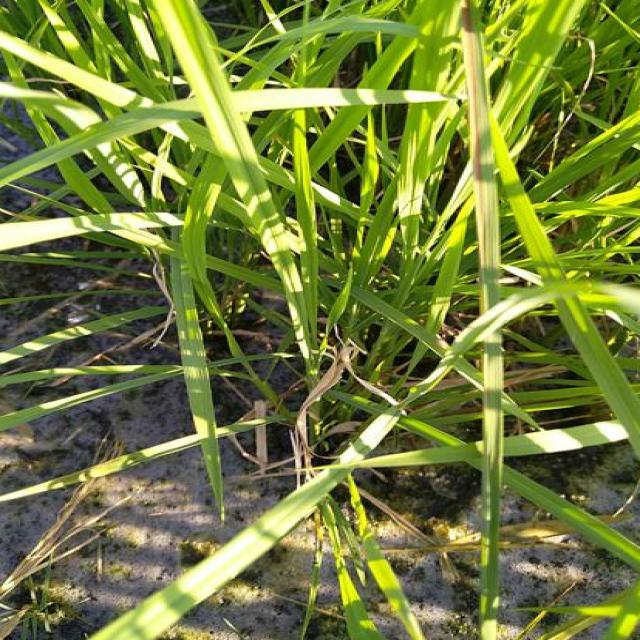Leaf Streak: (461, 0, 506, 310)
